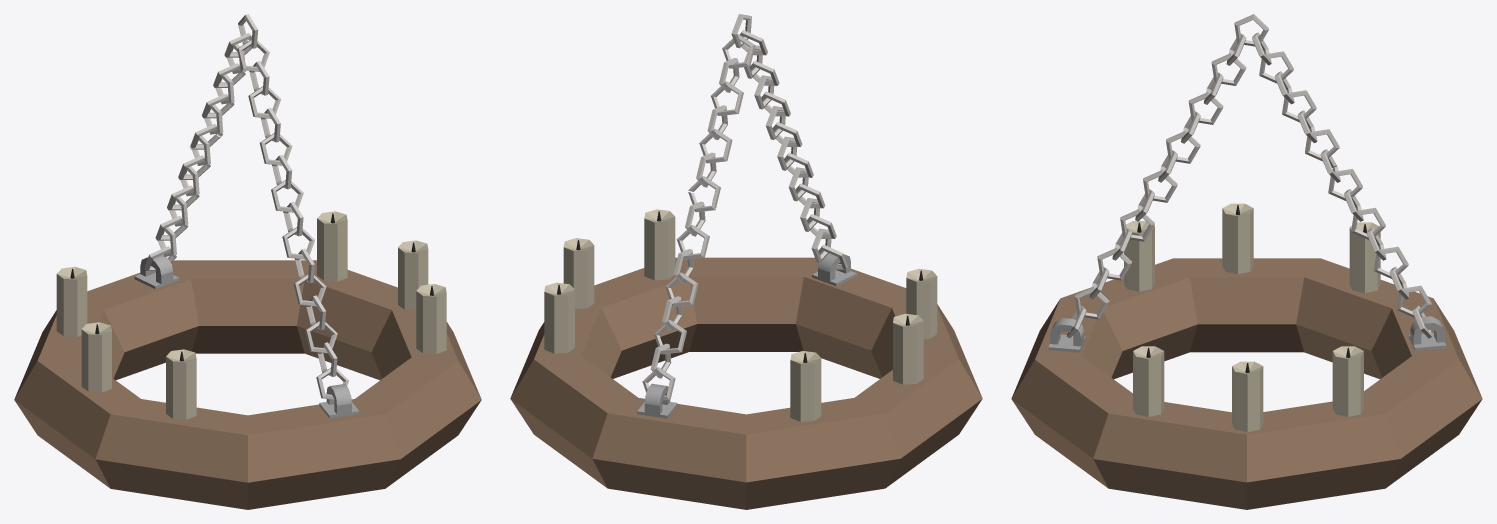
The model's file is chandelier.fbx.
The picture shows the model from 3 angles, left to right: view 1: azimuth 30°, elevation 25°; view 2: azimuth 150°, elevation 25°; view 3: azimuth 270°, elevation 25°; orthographic projection.
Visible parts, largest first — view 1: chandelierBase, chain2 (×2), chain1 (×2), candle3, candle1, candle4, candle2, candle5, candle6, chainHolder2, chainHolder1; view 2: chandelierBase, chain2 (×2), chain1 (×2), candle3, candle5, candle2, candle4, candle6, candle1, chainHolder2, chainHolder1; view 3: chandelierBase, chain2 (×2), chain1 (×2), candle6, candle4, candle5, candle2, candle1, candle3, chainHolder1, chainHolder2.
Boxes of the visible parts, <box> form: chandelierBase: <box>14,260,481,509</box>; chain2 (×2): <box>144,133,348,399</box>; chain1 (×2): <box>190,14,303,210</box>; candle3: <box>56,266,87,336</box>; candle1: <box>166,349,196,419</box>; candle4: <box>317,211,347,281</box>; candle2: <box>81,322,111,392</box>; candle5: <box>416,284,446,354</box>; candle6: <box>398,240,428,310</box>; chainHolder2: <box>134,255,179,289</box>; chainHolder1: <box>319,384,359,418</box>; chandelierBase: <box>510,257,982,509</box>; chain2 (×2): <box>642,135,847,400</box>; chain1 (×2): <box>688,14,802,208</box>; candle3: <box>790,351,821,421</box>; candle5: <box>644,209,675,280</box>; candle2: <box>893,313,923,384</box>; candle4: <box>544,282,574,353</box>; candle6: <box>563,238,594,308</box>; candle1: <box>906,268,937,339</box>; chainHolder2: <box>637,383,677,418</box>; chainHolder1: <box>812,253,857,286</box>; chandelierBase: <box>1011,258,1482,509</box>; chain2 (×2): <box>1066,166,1431,338</box>; chain1 (×2): <box>1161,14,1339,173</box>; candle6: <box>1232,361,1263,431</box>; candle4: <box>1332,346,1363,416</box>; candle5: <box>1133,346,1164,416</box>; candle2: <box>1222,203,1253,273</box>; candle1: <box>1124,221,1154,291</box>; candle3: <box>1349,222,1380,292</box>; chainHolder1: <box>1048,318,1085,352</box>; chainHolder2: <box>1409,316,1446,350</box>.
Bounding box in the file's own units: 145 × 140 × 148.
